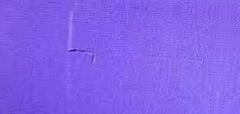snag: (63, 43, 100, 65)
